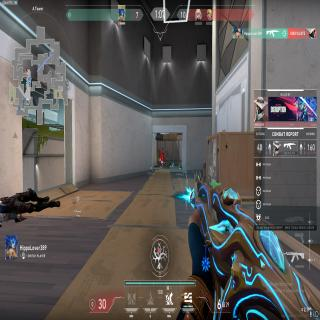ENEMY-BODY: (160, 155, 164, 167)
